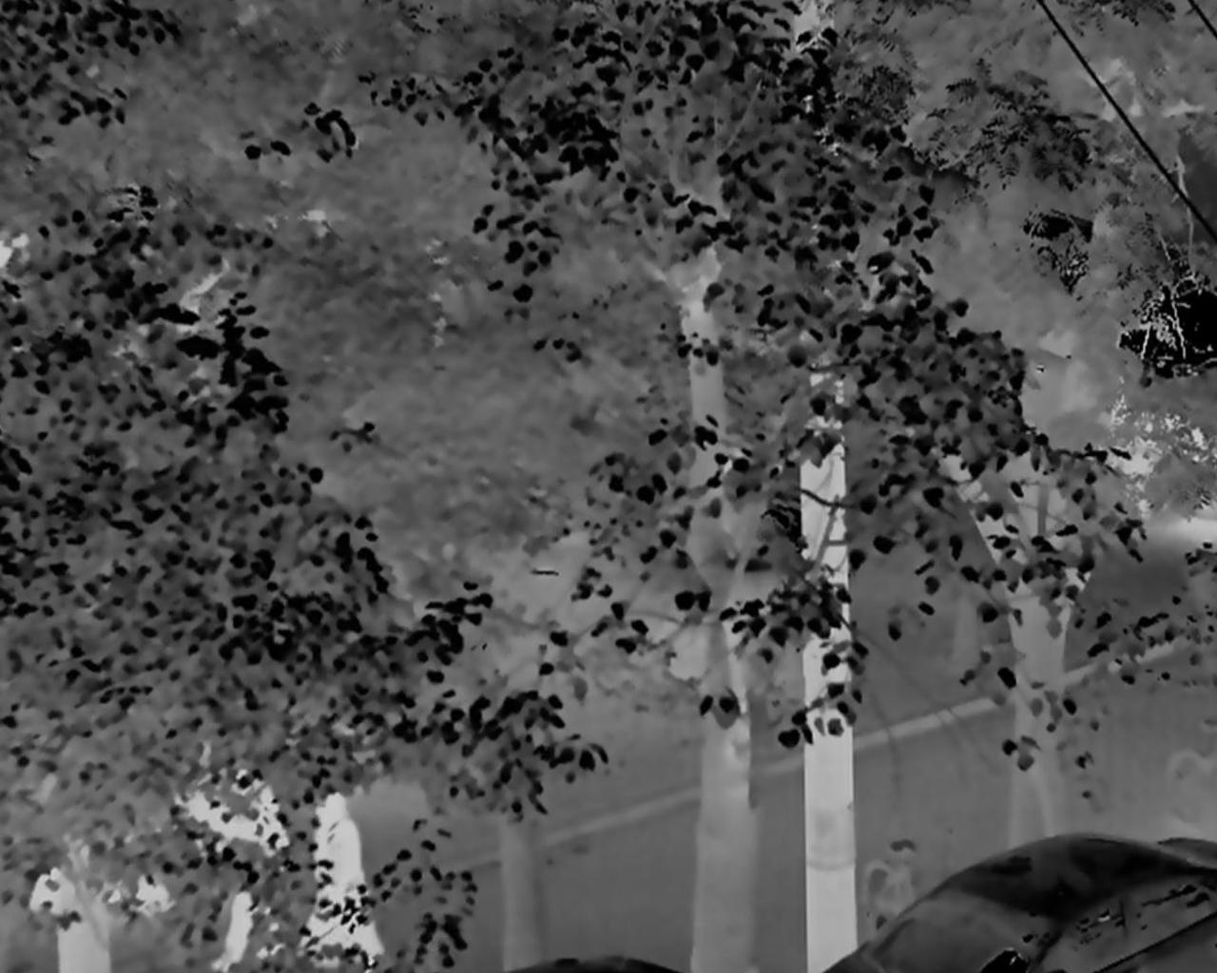person: (306, 789, 381, 973)
